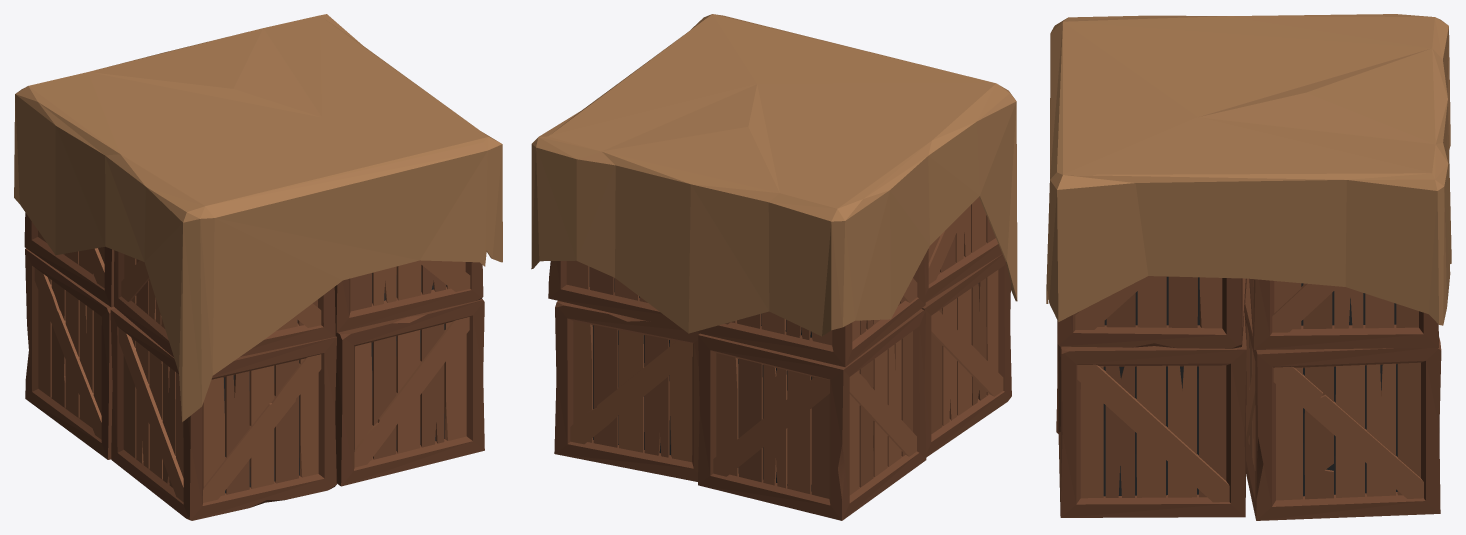
The picture shows the model from 3 angles, left to right: view 1: azimuth 30°, elevation 25°; view 2: azimuth 150°, elevation 25°; view 3: azimuth 270°, elevation 25°; orthographic projection. The views are drawn at different scales.
Parts seen in each view (by area): view 1: Box_02; view 2: Box_02; view 3: Box_02.
Part boxes in pixels (<box>): Box_02: <box>14,14,502,520</box>; Box_02: <box>531,14,1017,520</box>; Box_02: <box>1046,14,1451,520</box>.
Size of the model in its own units: 206 by 196 by 206.
